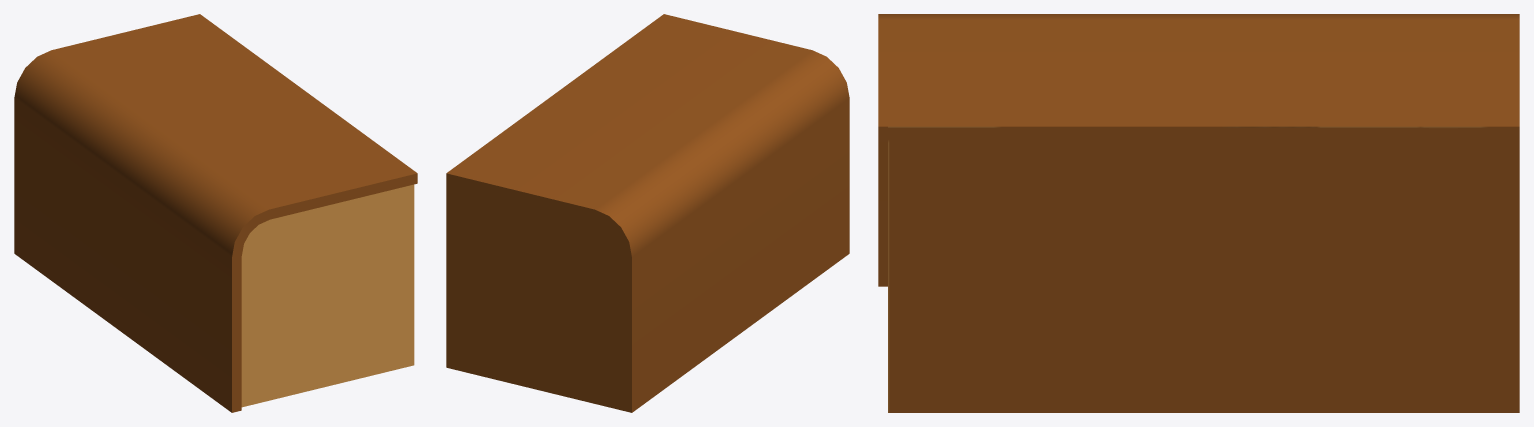
Rendered from Conner.fbx.
3 views of the same model, side by side, from view 1: azimuth 30°, elevation 25°; view 2: azimuth 150°, elevation 25°; view 3: azimuth 270°, elevation 25° (orthographic). The views are drawn at different scales.
Visible parts, largest first — view 1: Bang2; view 2: Bang2; view 3: Bang2.
Boxes of the visible parts, x1,y1,x2,y2 form: Bang2: (14,14,417,412); Bang2: (446,14,849,412); Bang2: (878,14,1519,412).
Size of the model in its own units: 100 by 100 by 203.
1 material, 1 textured.
